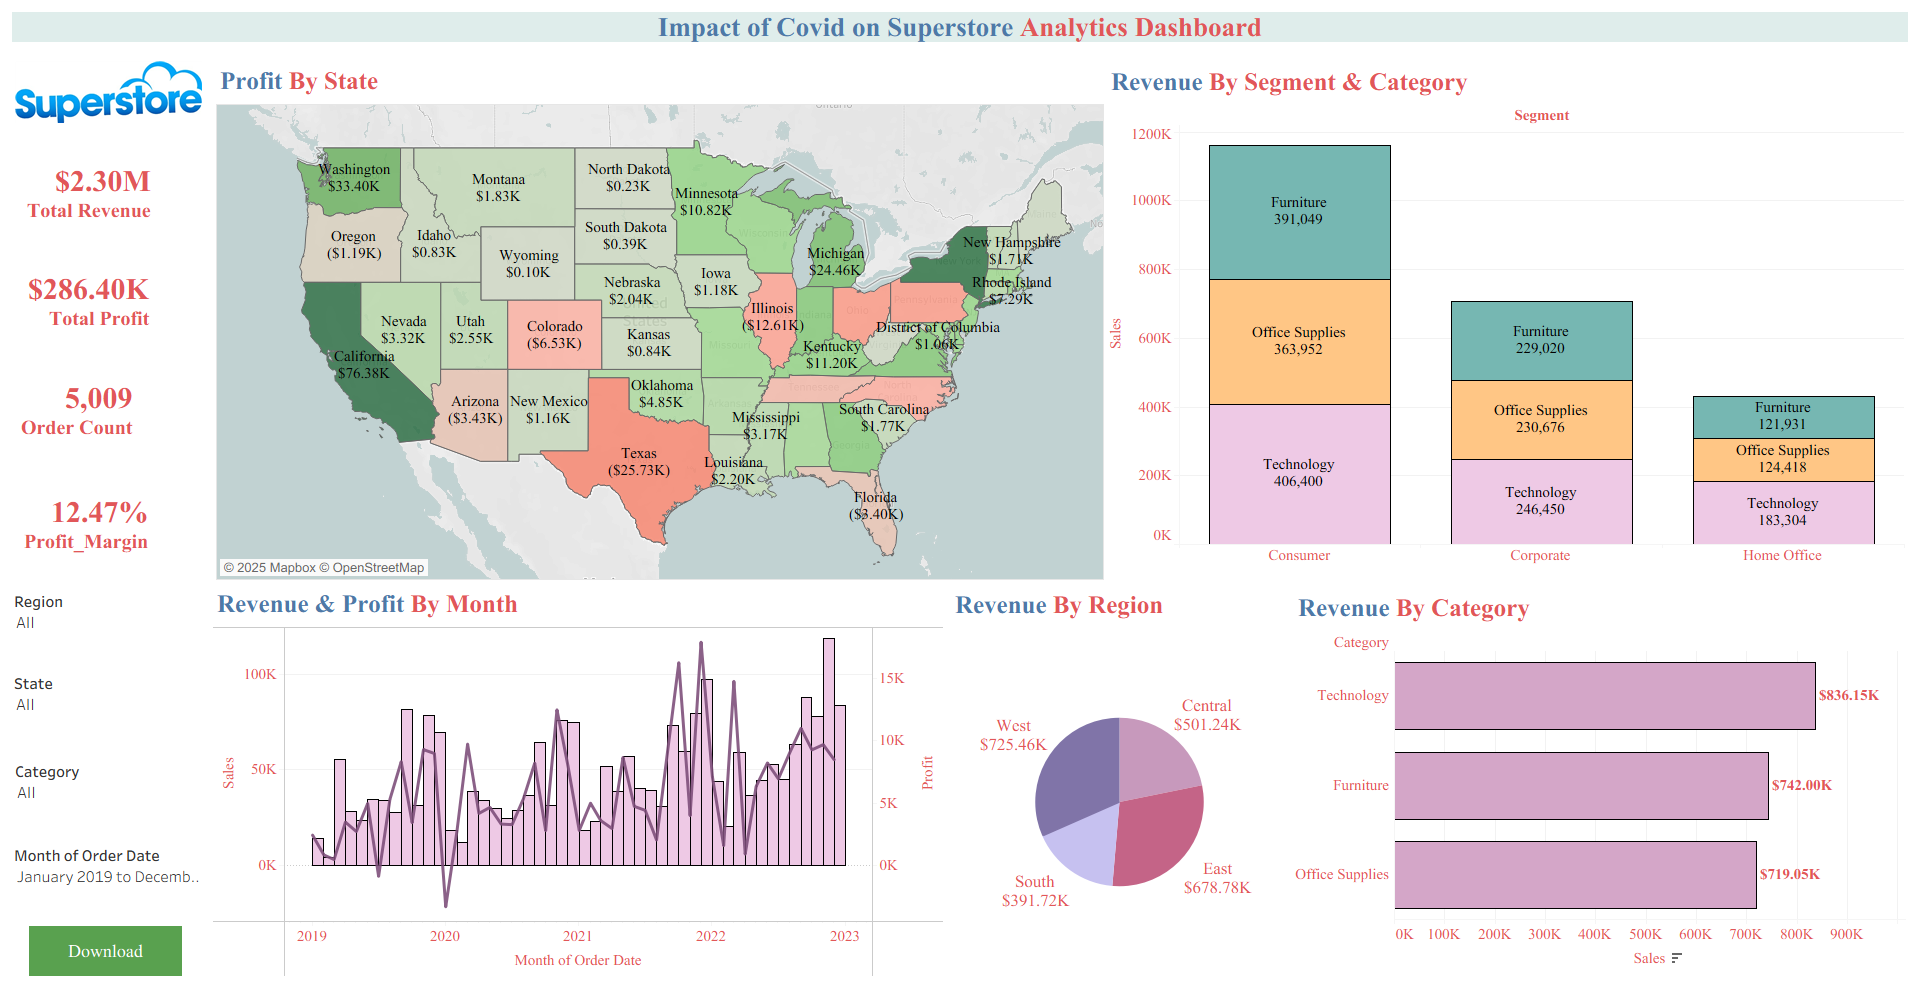

The page's visual inventory and layout, read from the dashboard file:
{"tool":"tableau","page":{"name":"Dashboard","canvas":[1000,1000],"units":"permille","ordinal":0},"visuals":[{"type":"title","box":[4.8,10,990.3,47.4]},{"type":"image","param":"Image/superstore.jpg","box":[7.9,61.2,97.2,83.7]},{"type":"worksheet","title":"State_Profit","mark":"Automatic","box":[112.2,61.2,462.3,523.1]},{"type":"worksheet","title":"Segment_Revenue","mark":"Automatic","rows":["Sales"],"cols":["Segment"],"box":[576.3,62.4,415.2,520.6]},{"type":"worksheet","title":"RevenueCard","mark":"Automatic","box":[7.9,151.1,95.4,101.1]},{"type":"worksheet","title":"ProfitCard","mark":"Automatic","box":[7.2,259.7,95.4,102.4]},{"type":"worksheet","title":"OrderCountCard","mark":"Automatic","box":[7.2,369.5,94.8,96.1]},{"type":"worksheet","title":"ProfitMarginCard","mark":"Automatic","box":[6.6,484.4,94.2,99.9]},{"type":"worksheet","title":"Monthly_Revenue&Profit","mark":"Automatic","rows":["Sales","Profit"],"cols":["Order Date"],"box":[111,588,380.8,395.8]},{"type":"worksheet","title":"Region_Revenue","mark":"Pie","box":[495.5,589.3,175.6,393.3]},{"type":"worksheet","title":"Category_Revenue","mark":"Automatic","rows":["Category"],"cols":["Sales"],"box":[674.1,591.8,318,388.3]},{"type":"filter","title":"Region_Revenue","param":"[federated.1aaiccs02r5n1r194tcw40cy5zjr].[none:Region:nk]","box":[7.2,594.3,98.4,71.2]},{"type":"filter","title":"State_Profit","param":"[federated.1aaiccs02r5n1r194tcw40cy5zjr].[none:State:nk]","box":[7.2,676.6,98.4,73.7]},{"type":"filter","title":"Category_Revenue","param":"[federated.1aaiccs02r5n1r194tcw40cy5zjr].[none:Category:nk]","box":[7.9,765.3,97.8,72.4]},{"type":"filter","title":"Monthly_Revenue&Profit","param":"[federated.1aaiccs02r5n1r194tcw40cy5zjr].[tmn:Order Date:qk]","box":[7.2,850.2,99,71.2]},{"type":"dashboard-object","box":[15.1,932.6,79.7,49.9]}]}

Visuals, with their boxes on the dashboard's canvas, which has no fixed pixel size, in thousandths of its width and height (x1, y1, x2, y2). These are canvas units, not pixel positions in the 1920x993 screenshot, which may show the page scaled, cropped or inside an application window:
title: 5,10,995,57
image: 8,61,105,145
"State_Profit" worksheet: 112,61,574,584
"Segment_Revenue" worksheet: 576,62,992,583
"RevenueCard" worksheet: 8,151,103,252
"ProfitCard" worksheet: 7,260,103,362
"OrderCountCard" worksheet: 7,370,102,466
"ProfitMarginCard" worksheet: 7,484,101,584
"Monthly_Revenue&Profit" worksheet: 111,588,492,984
"Region_Revenue" worksheet (Pie marks): 496,589,671,983
"Category_Revenue" worksheet: 674,592,992,980
"Region_Revenue" filter: 7,594,106,666
"State_Profit" filter: 7,677,106,750
"Category_Revenue" filter: 8,765,106,838
"Monthly_Revenue&Profit" filter: 7,850,106,921
dashboard-object: 15,933,95,982
